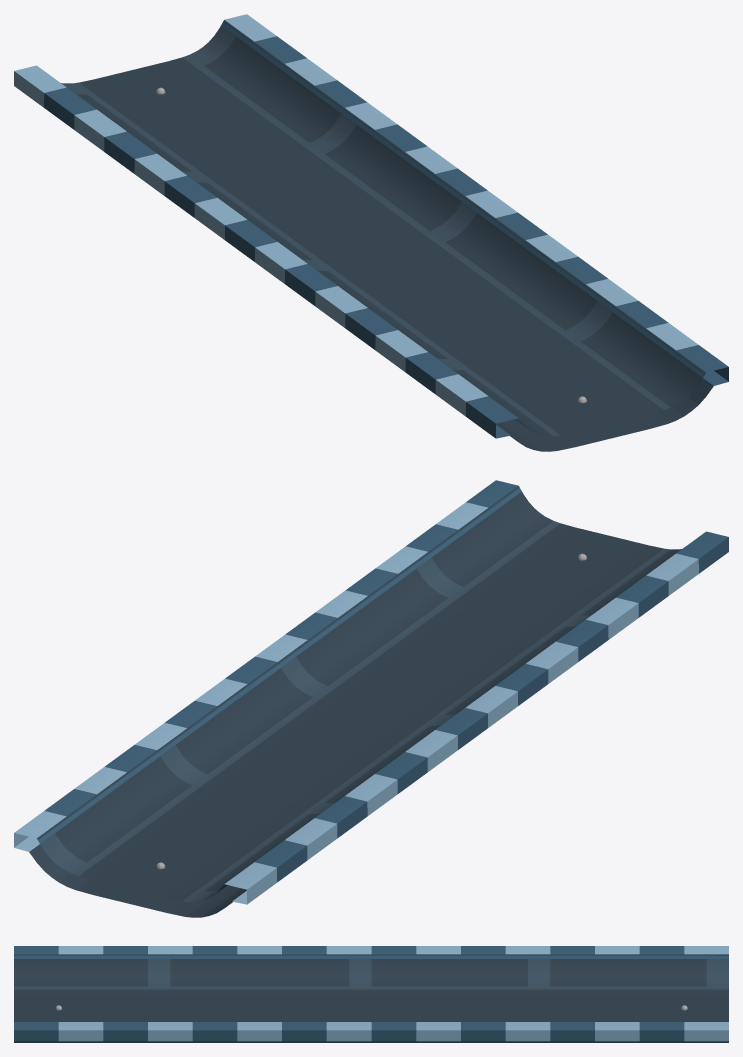
The model's file is straight_block_wayP_T3.fbx.
The picture shows the model from 3 angles, top to bottom: view 1: azimuth 30°, elevation 25°; view 2: azimuth 150°, elevation 25°; view 3: azimuth 270°, elevation 25°; orthographic projection. The views are drawn at different scales.
Visible parts, largest first — view 1: blur_block40_T3; view 2: blur_block40_T3; view 3: blur_block40_T3.
Part boxes in pixels (left/top/right/bottom): blur_block40_T3: left=14, top=14, right=728, bottom=451; blur_block40_T3: left=14, top=480, right=728, bottom=917; blur_block40_T3: left=14, top=946, right=728, bottom=1042.
Bounding box in the file's own units: 1130 × 199 × 4047.
